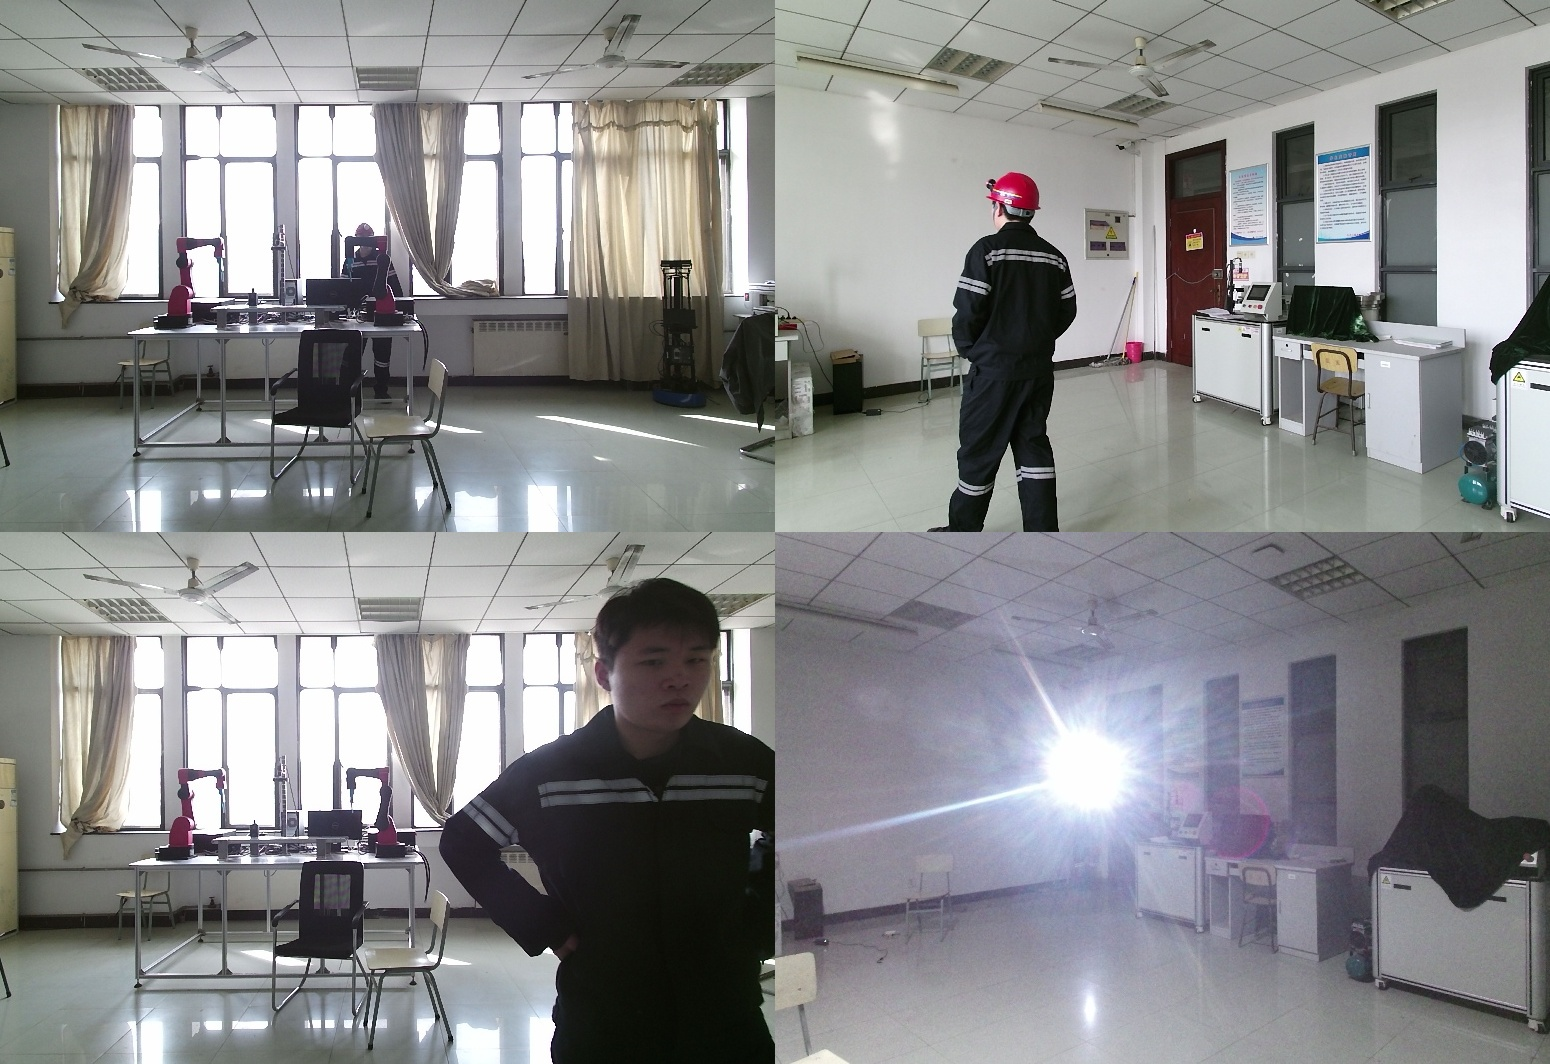person: (442, 581, 775, 1064), (927, 172, 1094, 532), (343, 224, 403, 398), (1061, 768, 1107, 892)
